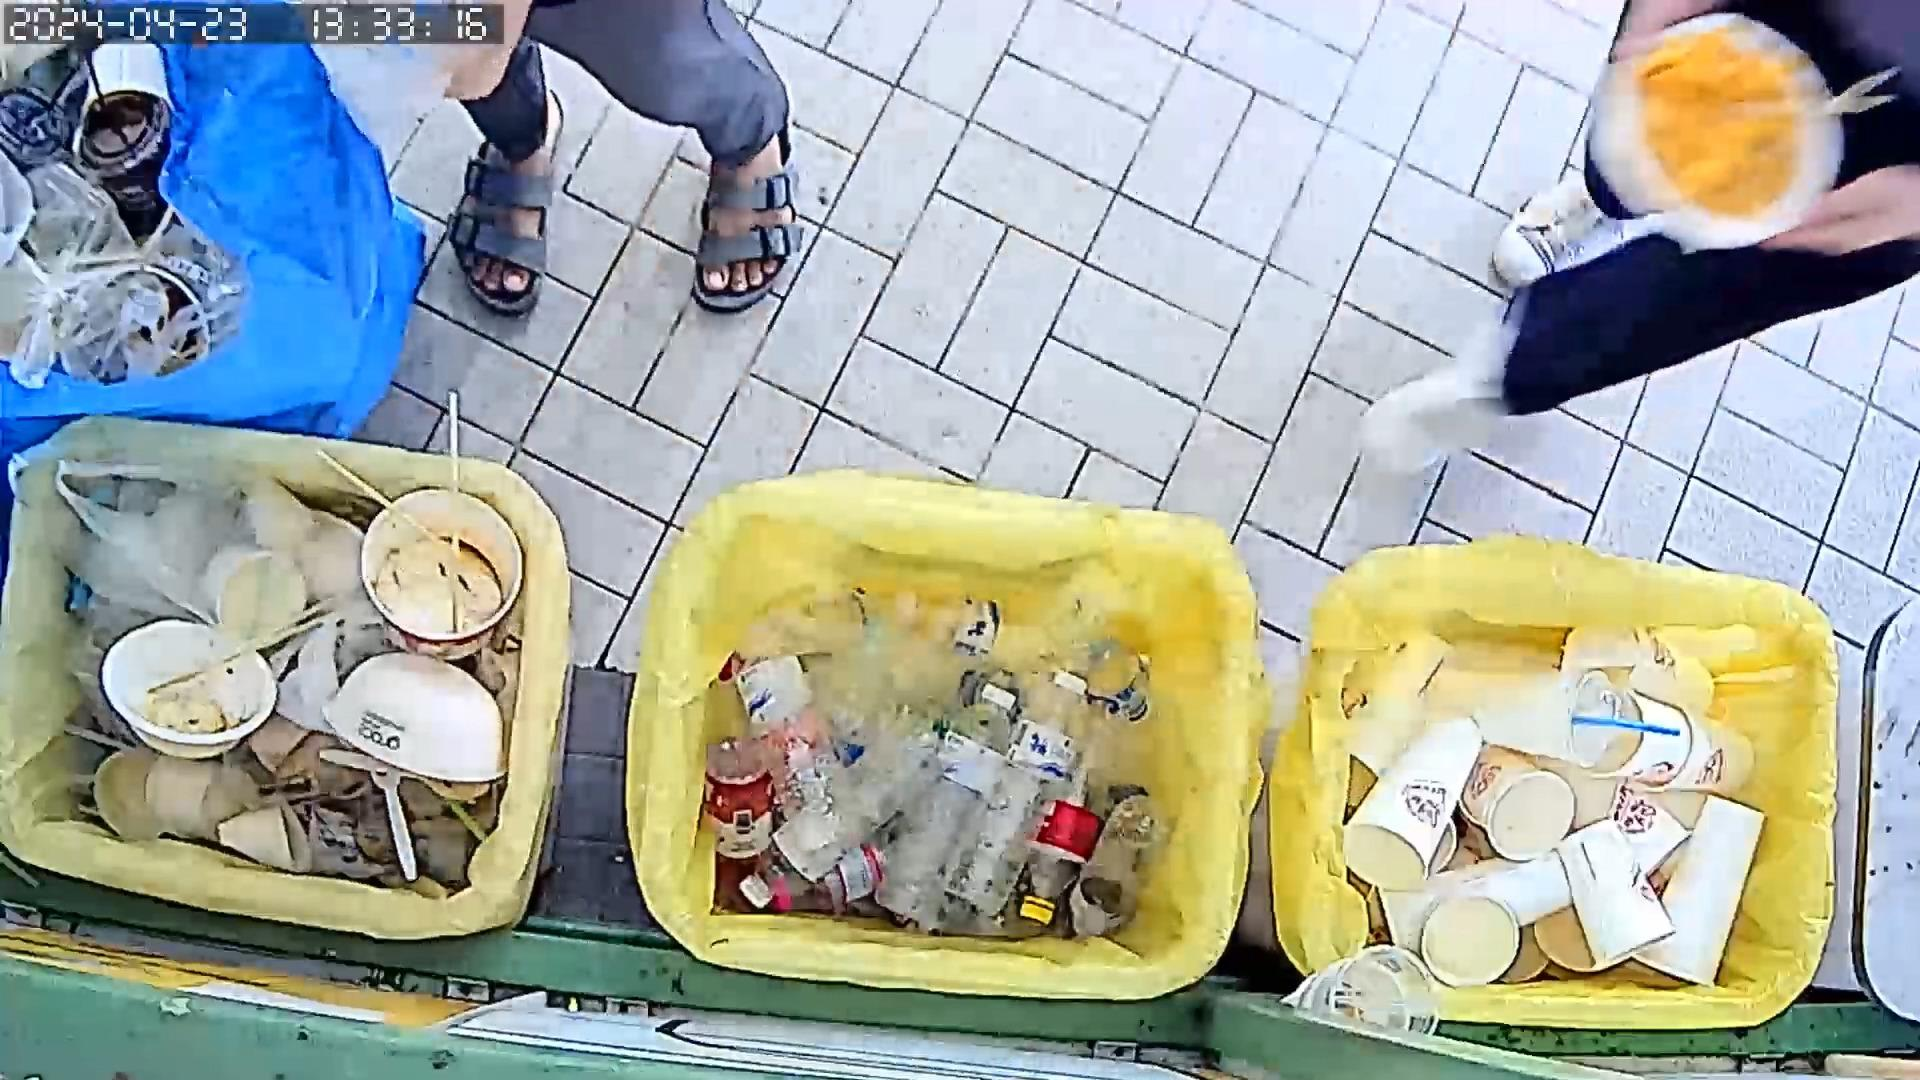can: (708, 733, 783, 866)
filled plastic bag: (32, 422, 306, 647)
food container: (1581, 0, 1874, 286), (322, 633, 508, 794), (361, 488, 529, 665), (102, 611, 282, 756), (144, 749, 266, 852), (1419, 885, 1526, 990), (88, 746, 179, 855)
plastic bottle: (732, 709, 952, 913), (872, 680, 1026, 924), (951, 667, 1096, 920), (723, 624, 873, 858), (1015, 713, 1120, 928), (1039, 584, 1159, 735), (1065, 794, 1176, 951), (894, 572, 1051, 673)
plastic cup: (290, 796, 422, 889)
plastic cutlery: (373, 543, 502, 604)
sticks: (276, 452, 442, 539), (435, 393, 471, 638)
straw: (1564, 711, 1680, 748)
tissue paper: (218, 793, 319, 882)
zero waste cup: (1618, 787, 1768, 990), (1335, 708, 1482, 902), (1366, 844, 1581, 960), (1338, 628, 1460, 812), (1424, 661, 1618, 769), (1557, 822, 1687, 975), (1560, 611, 1720, 717), (1451, 744, 1576, 864), (1623, 694, 1762, 799), (1576, 690, 1702, 790)
